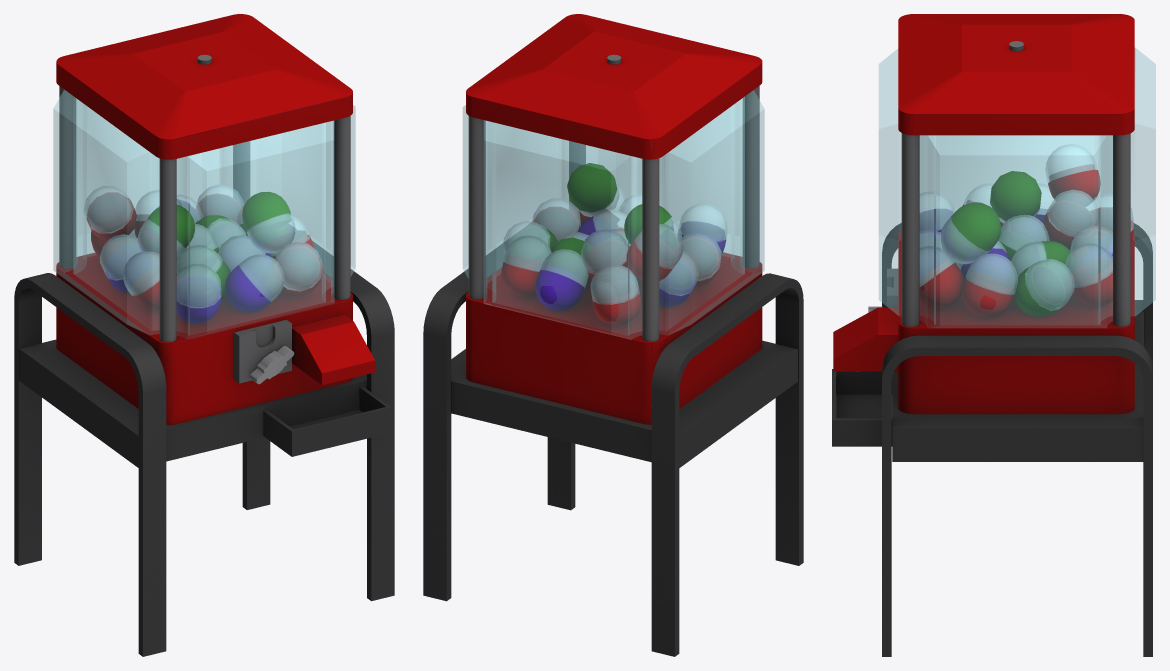
3 views of the same model, side by side, from view 1: azimuth 30°, elevation 25°; view 2: azimuth 150°, elevation 25°; view 3: azimuth 270°, elevation 25° (orthographic). The views are drawn at different scales.
Parts seen in each view (by area): view 1: Gachapon_Glas_0 (×2), Gachapon_Body Color_0, Gachapon_Material #37_0, Gachapon_Material #39_0, Gachapon_Body_0, Gachapon_Material #55_0, Gachapon_Material #56_0, Gachapon_Material #40_0; view 2: Gachapon_Glas_0 (×2), Gachapon_Body Color_0, Gachapon_Material #37_0, Gachapon_Material #39_0, Gachapon_Body_0, Gachapon_Material #56_0, Gachapon_Material #55_0; view 3: Gachapon_Glas_0 (×2), Gachapon_Body Color_0, Gachapon_Material #37_0, Gachapon_Body_0, Gachapon_Material #56_0, Gachapon_Material #39_0, Gachapon_Material #55_0.
Boxes of the visible parts, x1,y1,x2,y2 form: Gachapon_Glas_0 (×2): (53, 90, 355, 338); Gachapon_Body Color_0: (56, 14, 375, 424); Gachapon_Material #37_0: (14, 224, 394, 656); Gachapon_Material #39_0: (59, 54, 350, 383); Gachapon_Body_0: (87, 193, 322, 310); Gachapon_Material #55_0: (105, 199, 273, 322); Gachapon_Material #56_0: (146, 192, 290, 299); Gachapon_Material #40_0: (250, 346, 294, 384); Gachapon_Glas_0 (×2): (463, 90, 764, 339); Gachapon_Body Color_0: (466, 14, 762, 424); Gachapon_Material #37_0: (423, 223, 803, 656); Gachapon_Material #39_0: (468, 54, 759, 341); Gachapon_Body_0: (501, 206, 719, 325); Gachapon_Material #56_0: (511, 163, 678, 282); Gachapon_Material #55_0: (535, 215, 725, 310); Gachapon_Glas_0 (×2): (879, 48, 1155, 327); Gachapon_Body Color_0: (833, 14, 1134, 414); Gachapon_Material #37_0: (832, 223, 1152, 656); Gachapon_Body_0: (919, 165, 1133, 318); Gachapon_Material #56_0: (948, 171, 1075, 316); Gachapon_Material #39_0: (887, 41, 1130, 326); Gachapon_Material #55_0: (920, 209, 1130, 281).
Size of the model in its own units: 64.55 by 128 by 68.46.
9 materials, 7 textured.
